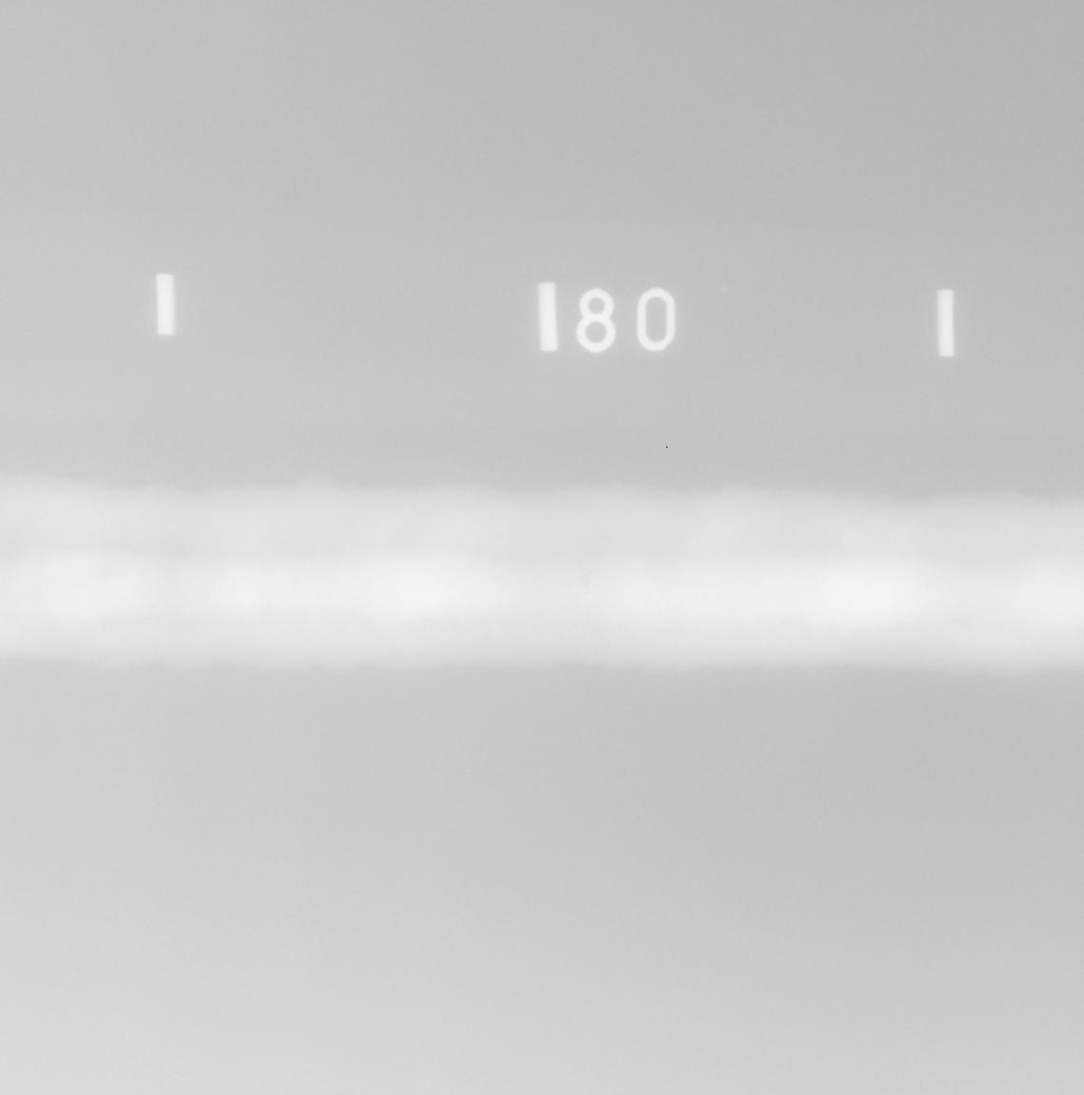Pore/Porosity: (578, 575, 592, 585), (587, 569, 593, 574)
